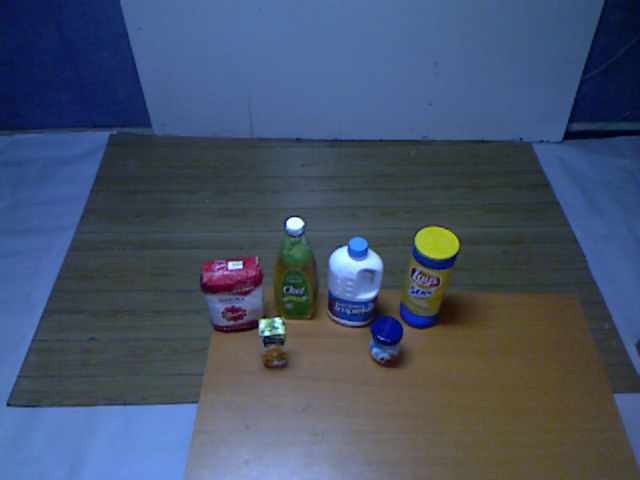aceite: (270, 212, 322, 327)
cloro: (323, 232, 388, 329)
crema: (365, 308, 408, 371)
harina: (193, 251, 269, 340)
jugoind: (254, 316, 294, 375)
papas: (395, 222, 463, 334)
